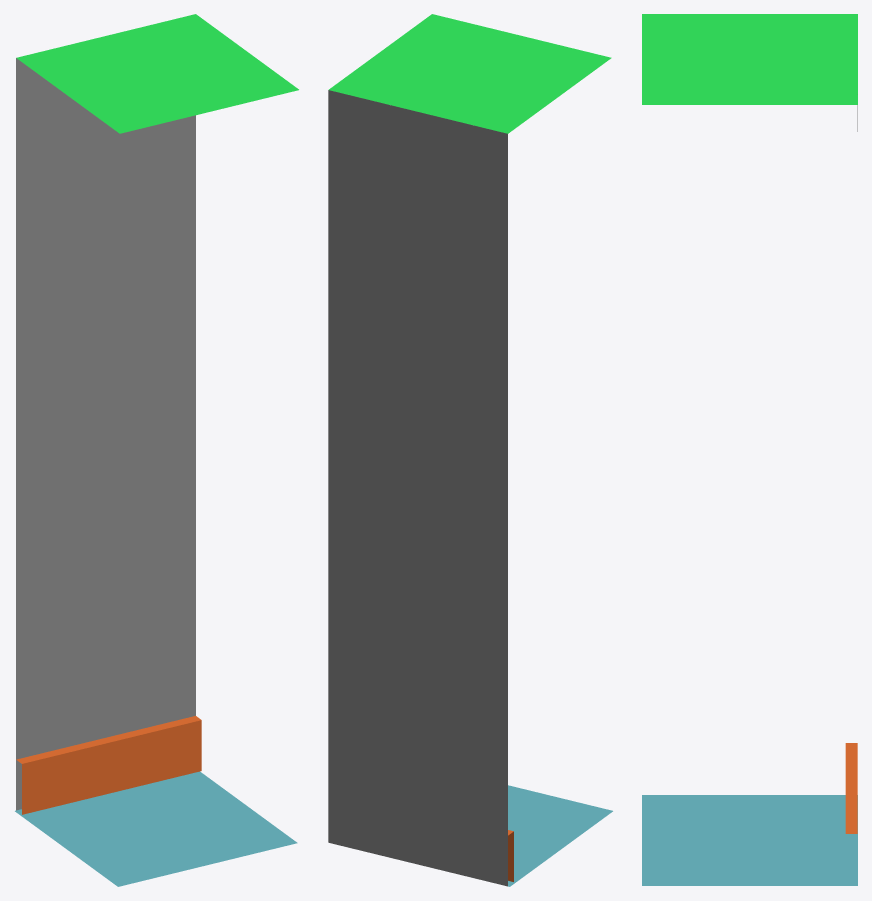
File: ModuleD_side1.FBX
3 views of the same model, side by side, from view 1: azimuth 30°, elevation 25°; view 2: azimuth 150°, elevation 25°; view 3: azimuth 270°, elevation 25° (orthographic). The views are drawn at different scales.
Parts seen in each view (by area): view 1: ModuleD_wall_03, ModuleD_roof06, ModuleD_side1, ModuleD_skboard_05; view 2: ModuleD_wall_03, ModuleD_roof06, ModuleD_side1; view 3: ModuleD_roof06, ModuleD_side1, ModuleD_skboard_05.
Boxes of the visible parts, left/top/right/bottom form: ModuleD_wall_03: left=16, top=58, right=195, bottom=810; ModuleD_roof06: left=16, top=14, right=298, bottom=133; ModuleD_side1: left=15, top=771, right=297, bottom=886; ModuleD_skboard_05: left=16, top=716, right=201, bottom=814; ModuleD_wall_03: left=328, top=90, right=507, bottom=886; ModuleD_roof06: left=329, top=14, right=611, bottom=133; ModuleD_side1: left=508, top=785, right=612, bottom=886; ModuleD_roof06: left=642, top=14, right=857, bottom=104; ModuleD_side1: left=642, top=795, right=857, bottom=885; ModuleD_skboard_05: left=845, top=743, right=857, bottom=833.
Bounding box in the file's own units: 19.88 × 19.69 × 78.74.
